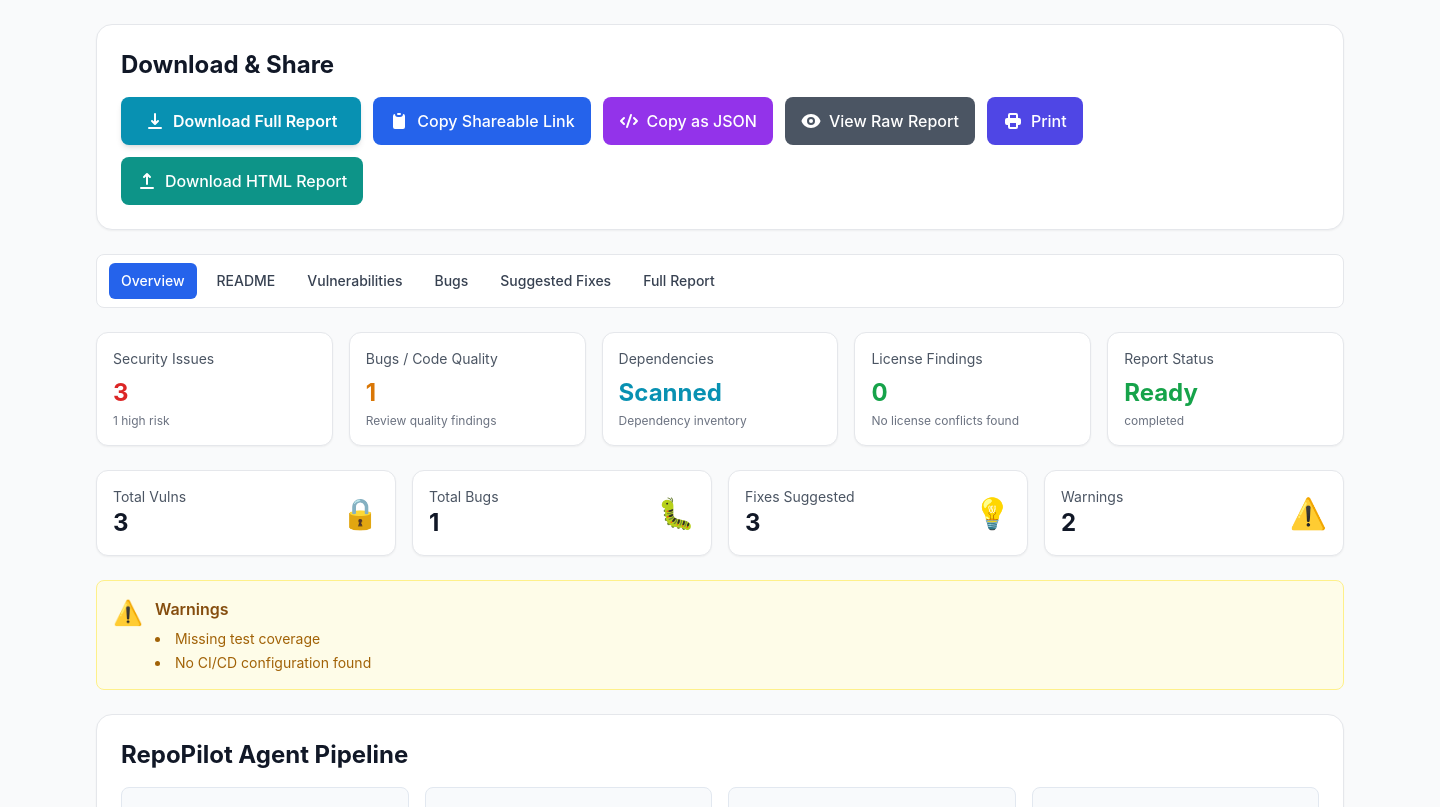
ResultsDashboard › Expandable Rows › clicking a vulnerability row expands the recommendation
Click the tab "Vulnerabilities": (355, 281) [295,263,414,299]
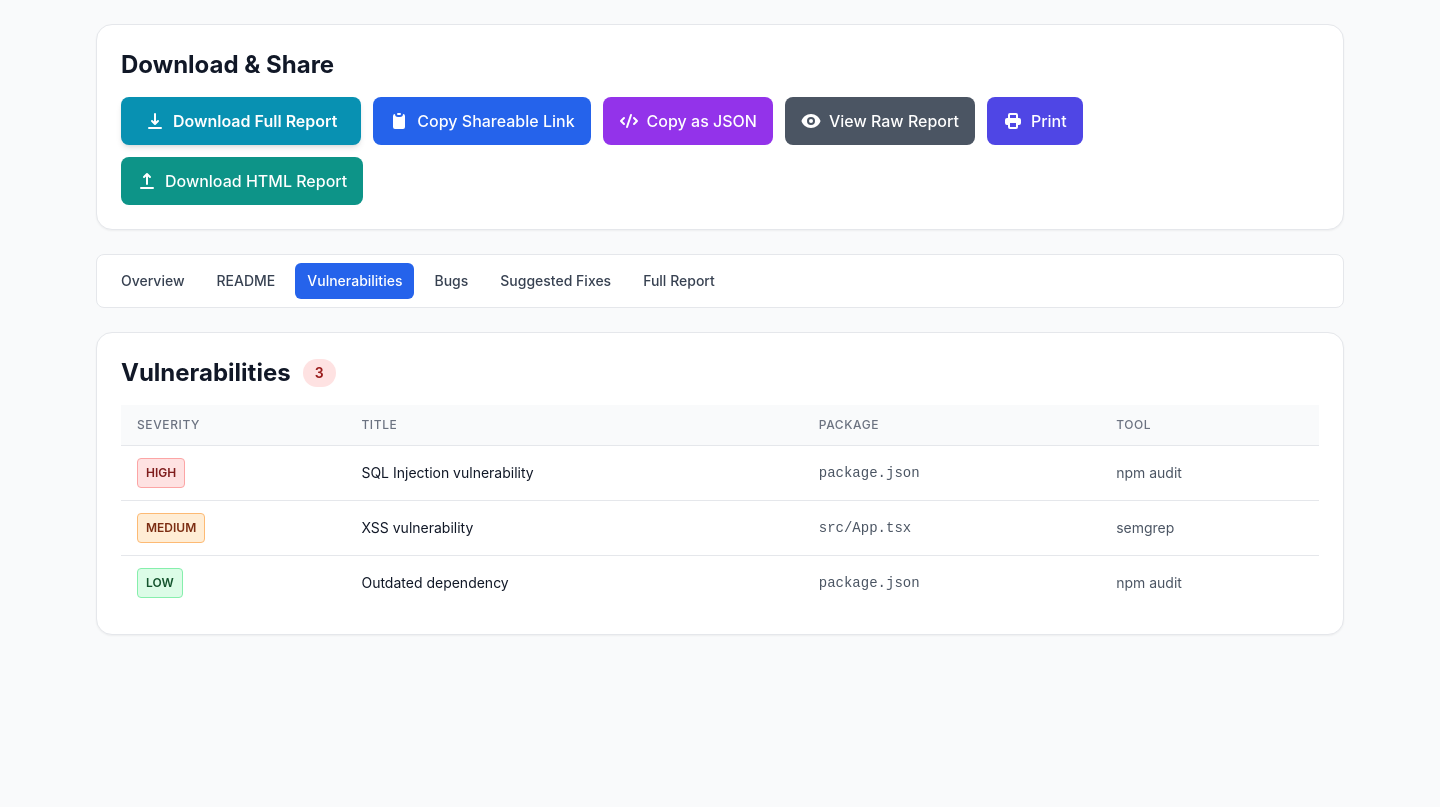
Expected: the text "Update to version 4.18.0" is not shown
Click the text "SQL Injection vulnerability": (448, 472) [345,446,803,500]
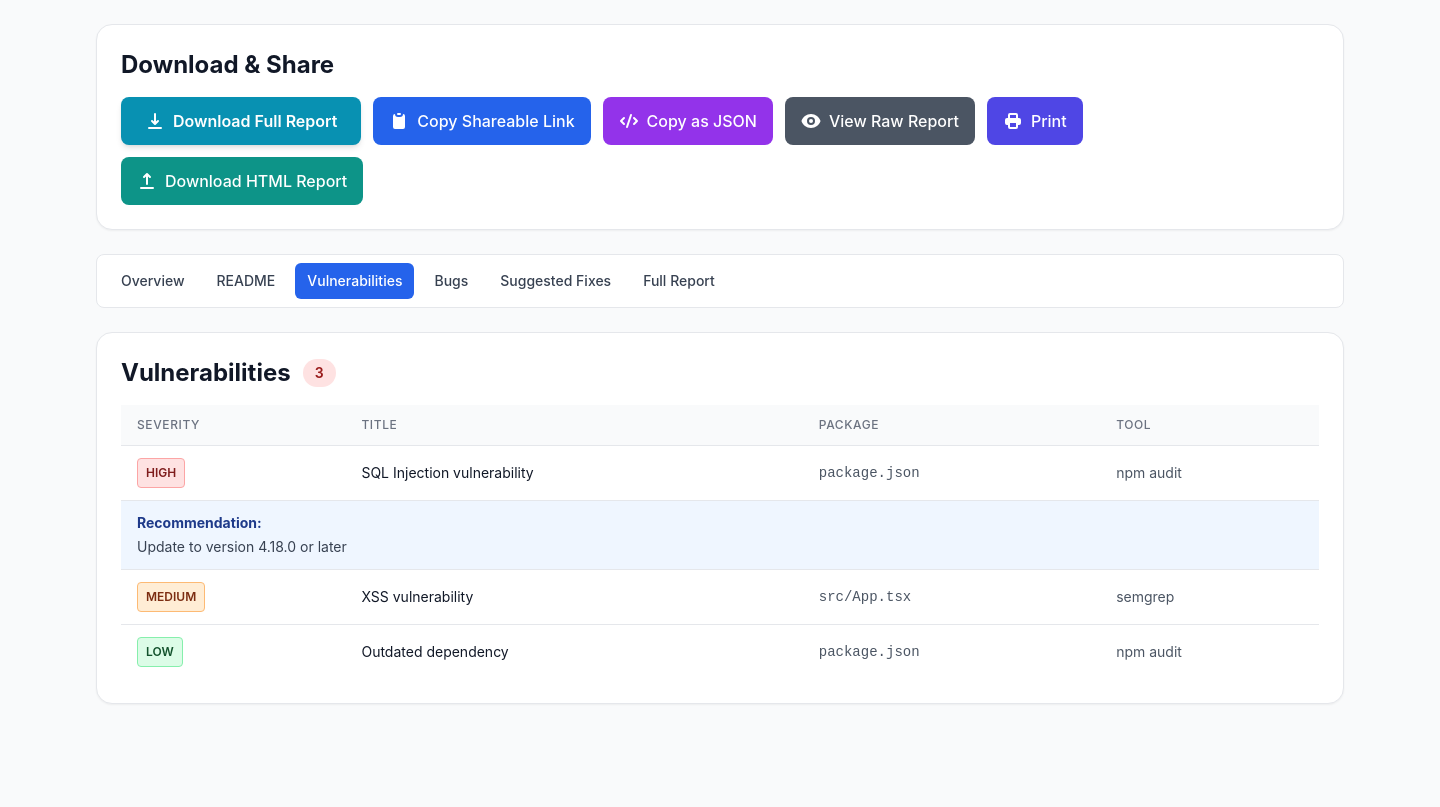
Expected: the text "Update to version 4.18.0 or later" is shown, [137,538,347,555]
